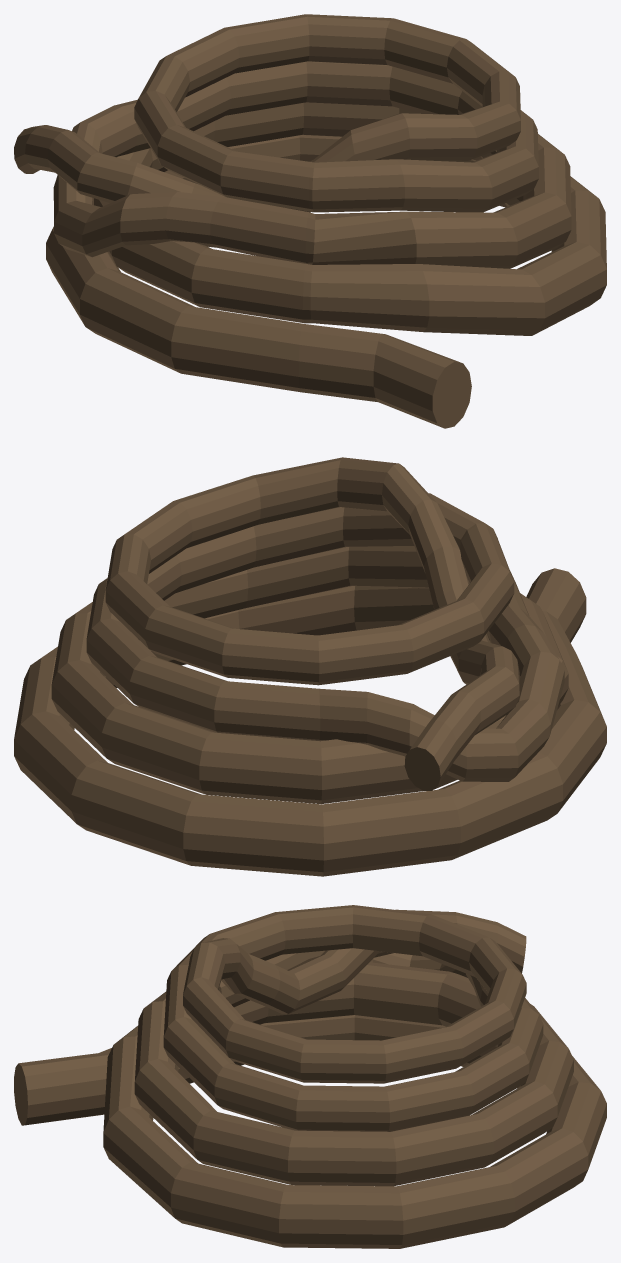
File: Cuerda.fbx
The picture shows the model from 3 angles, top to bottom: view 1: azimuth 30°, elevation 25°; view 2: azimuth 150°, elevation 25°; view 3: azimuth 270°, elevation 25°; orthographic projection. The views are drawn at different scales.
Visible parts, largest first — view 1: Cuerda; view 2: Cuerda; view 3: Cuerda.
Boxes of the visible parts, x1,y1,x2,y2 form: Cuerda: [14, 14, 606, 428]; Cuerda: [14, 457, 606, 876]; Cuerda: [14, 905, 606, 1248].
Size of the model in its own units: 1.73 by 0.766 by 2.
